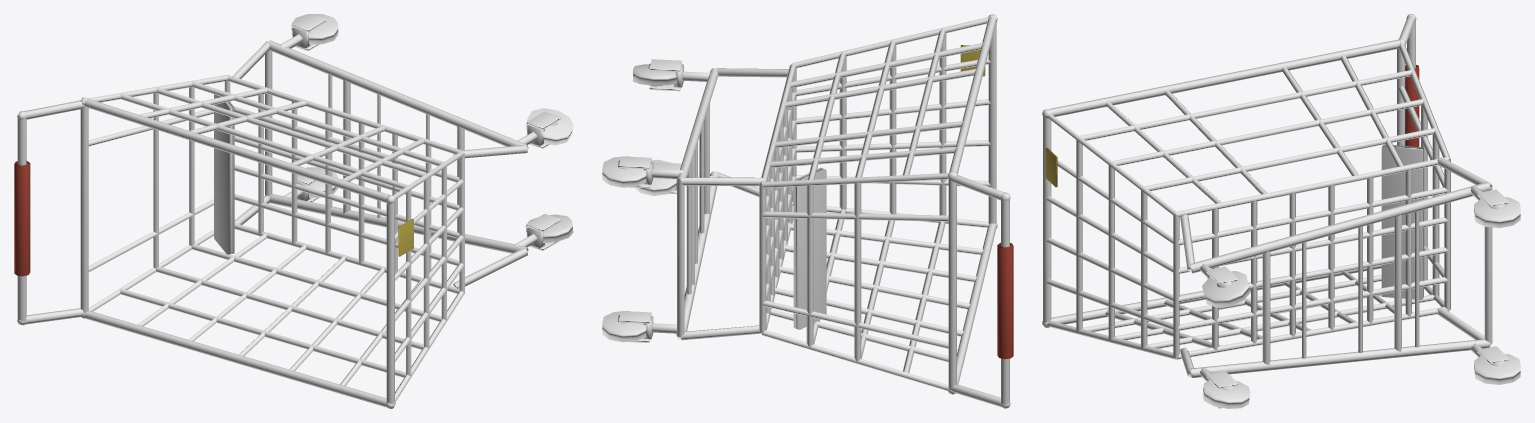
Rendered from shopping_cart_tipped.glb.
3 renders of one model, left to right at view 1: azimuth 30°, elevation 25°; view 2: azimuth 150°, elevation 25°; view 3: azimuth 270°, elevation 25°, orthographic. The views are drawn at different scales.
Visible parts, largest first — view 1: shopping_cart_tipped.001; view 2: shopping_cart_tipped.001; view 3: shopping_cart_tipped.001.
Boxes of the visible parts, x1,y1,x2,y2 form: shopping_cart_tipped.001: [14, 14, 573, 408]; shopping_cart_tipped.001: [602, 14, 1013, 408]; shopping_cart_tipped.001: [1042, 14, 1520, 408].
Size of what is drawn, in the model's own units: 1.33 by 0.6026 by 1.16.
